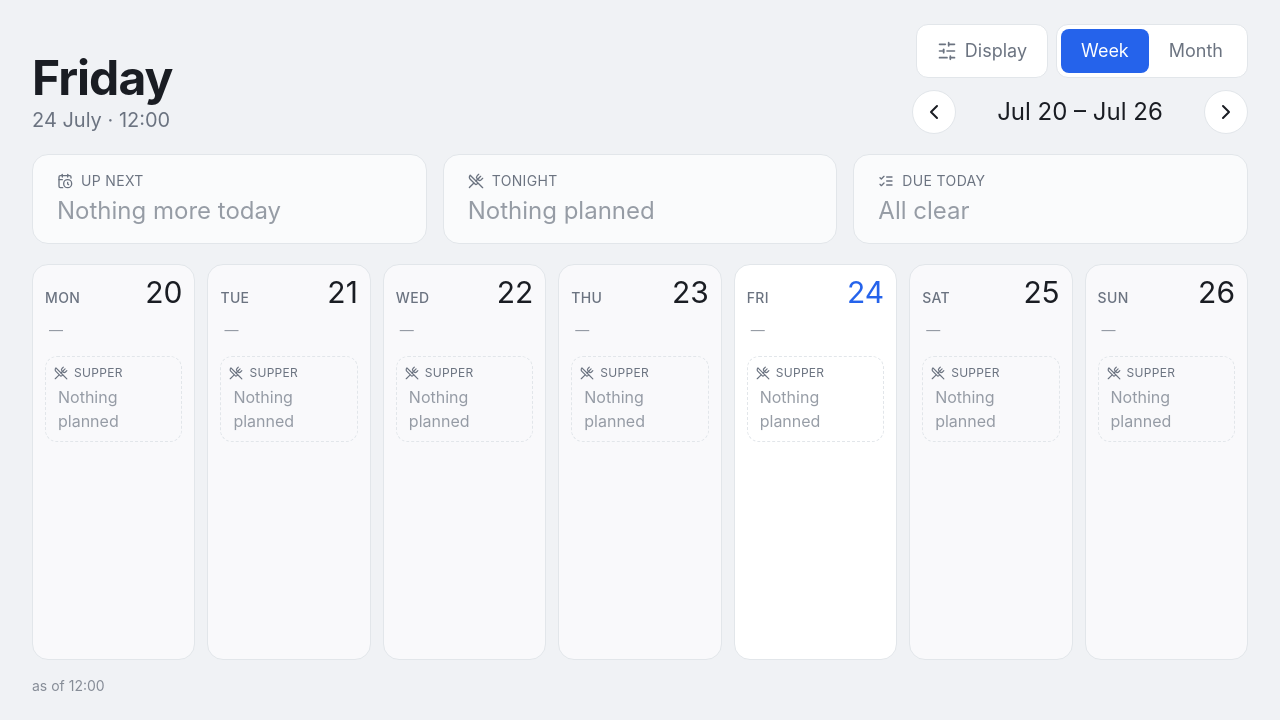
HearthPage add-event overlay › opens the overlay pre-filled with the tapped week day
Click the element showing "Mon 20 — Supper Nothing planned" at {"x": 114, "y": 462}, box [32,264,195,660]
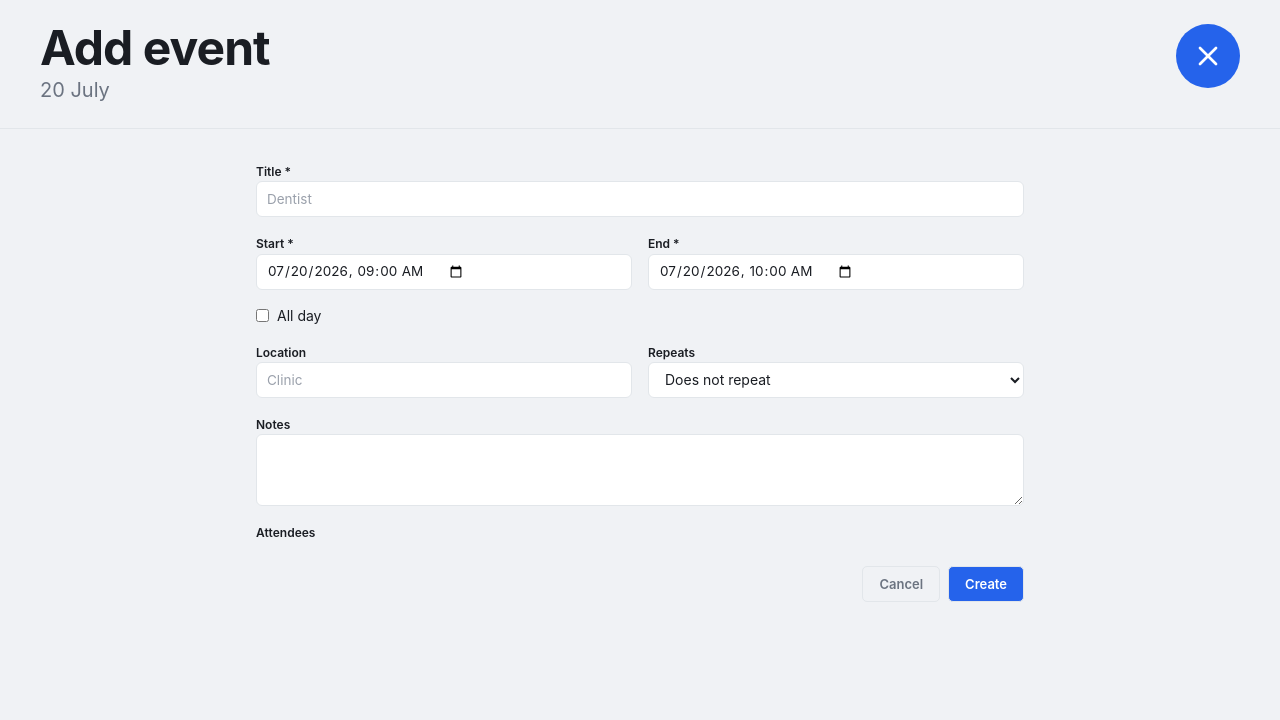
Expected: the dialog "Add event" is shown
Expected: the field labelled "Start *" holds "2026-07-20T09:00", [256,254,632,290]
